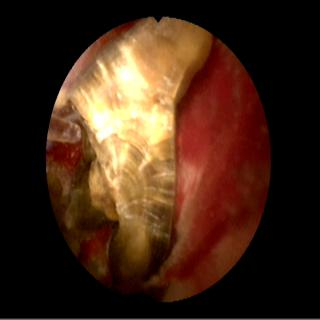stone: (51, 19, 211, 288), (153, 44, 268, 298)
